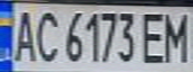1: (81, 9, 100, 63)
3: (115, 9, 142, 63)
6: (60, 8, 84, 63)
7: (96, 9, 121, 63)
A: (9, 6, 39, 63)
C: (30, 7, 60, 63)
E: (139, 9, 172, 64)
M: (160, 9, 193, 64)
